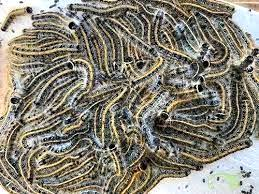Caterpillar: (90, 11, 145, 84), (4, 159, 104, 194), (82, 88, 132, 152), (152, 11, 199, 77), (148, 101, 215, 145), (7, 40, 81, 61), (223, 73, 245, 140), (110, 160, 149, 194), (0, 3, 32, 32), (34, 11, 80, 29)
Lobster Moth: (7, 61, 74, 104), (153, 8, 199, 57), (180, 141, 254, 164), (109, 20, 156, 56), (34, 69, 77, 108), (17, 117, 61, 155), (41, 160, 98, 189), (129, 169, 189, 194), (98, 20, 124, 74), (201, 27, 231, 69), (95, 17, 115, 77), (151, 149, 204, 171), (238, 74, 257, 135), (70, 3, 140, 17), (35, 160, 78, 181), (4, 124, 21, 175), (122, 142, 151, 169), (224, 20, 250, 49), (180, 4, 233, 18), (55, 178, 104, 193), (25, 144, 43, 182), (224, 28, 247, 57)
